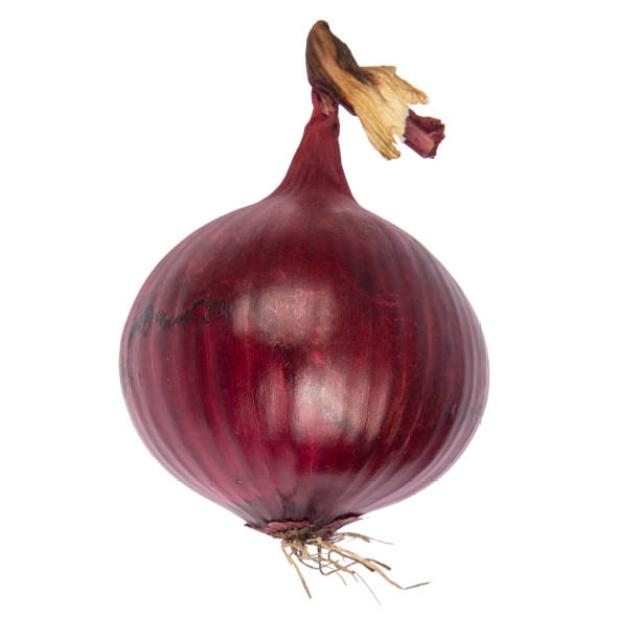onion: (100, 181, 503, 543)
